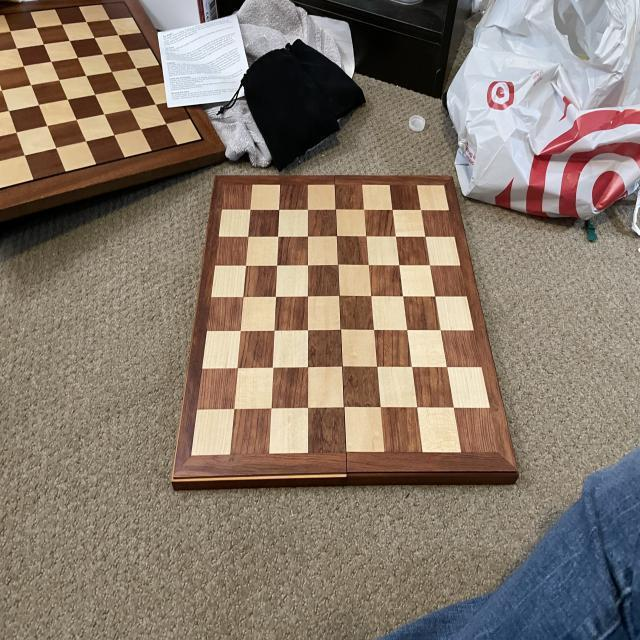chess-table-corners: (184, 438, 216, 474), (482, 432, 512, 467), (426, 174, 456, 203), (217, 178, 236, 202)
